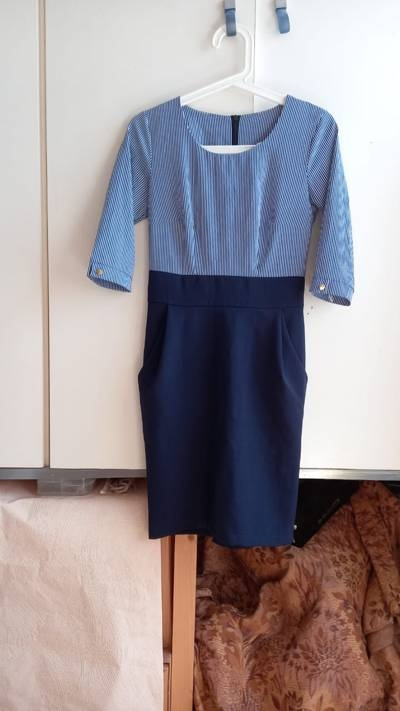Dress: (86, 61, 369, 579)
